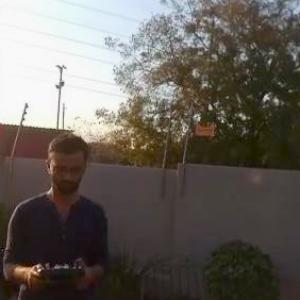follow: (0, 124, 115, 299)
